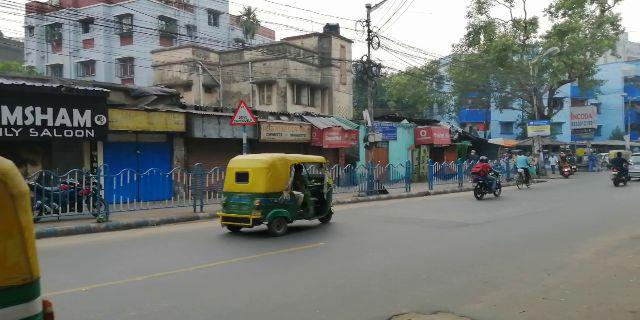Autorickshaw: (222, 156, 338, 234)
Cycle: (511, 149, 534, 194)
Motorbike: (470, 153, 504, 200), (609, 146, 631, 191)
